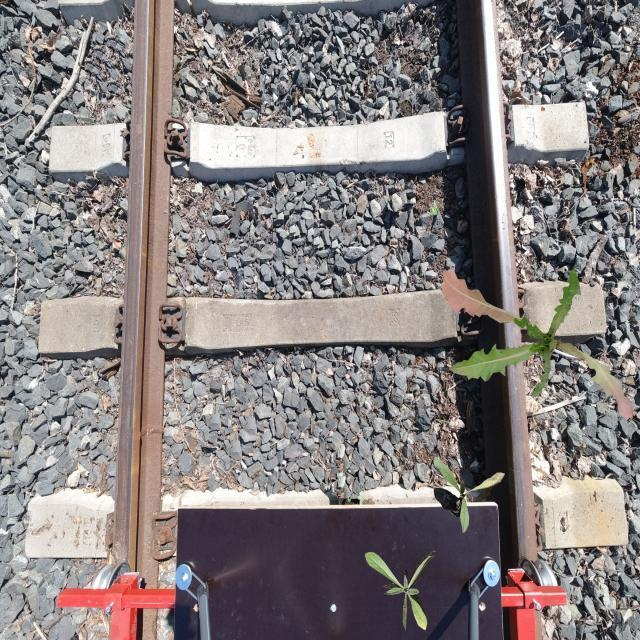Plant: (441, 268, 634, 420), (365, 550, 437, 631), (433, 458, 504, 532), (427, 200, 441, 215)
